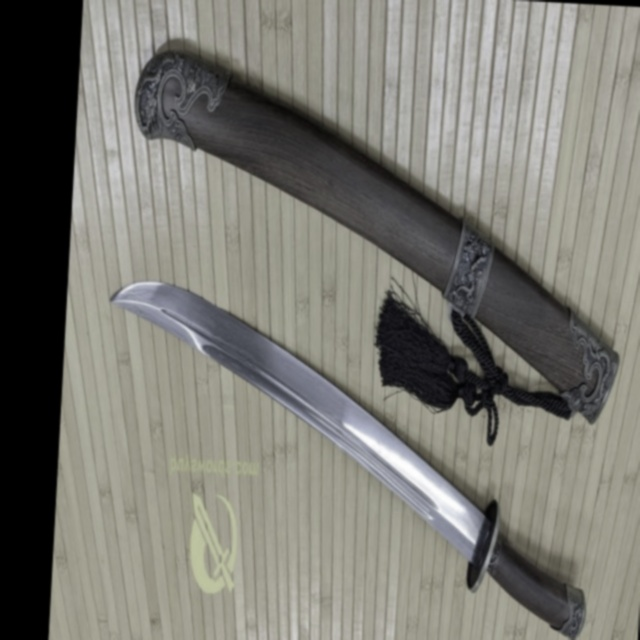Sharp-Object: (85, 272, 610, 640)
